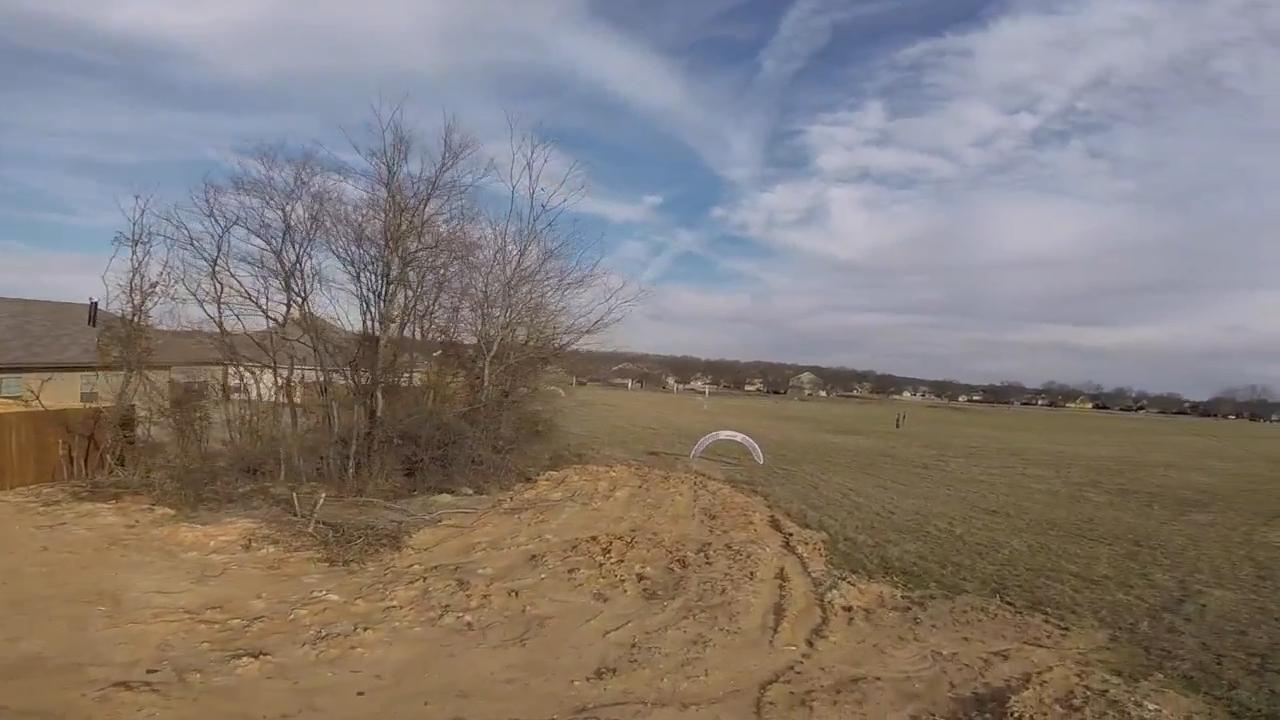gate: (691, 429, 766, 473)
